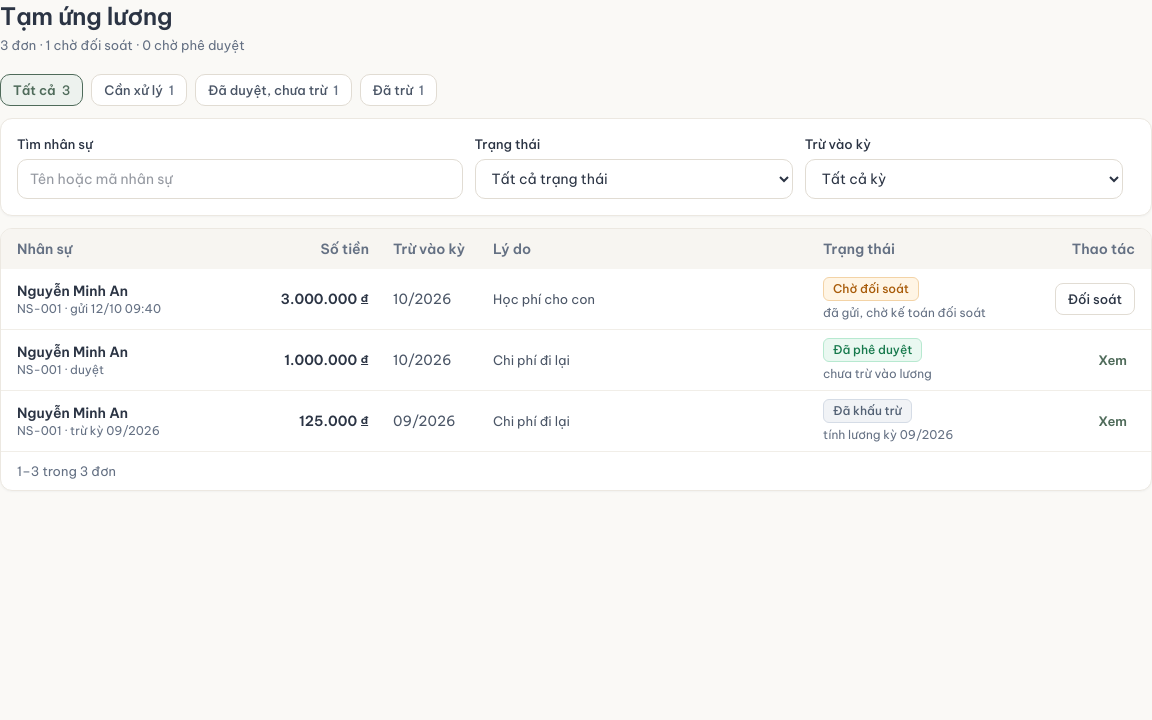
Advances list redesign › shows the request facts, other requests of the same month and the real rules in the decision dialog
Step 1. Click the button "Đối soát" → (1095, 299), box [1055,283,1135,315]
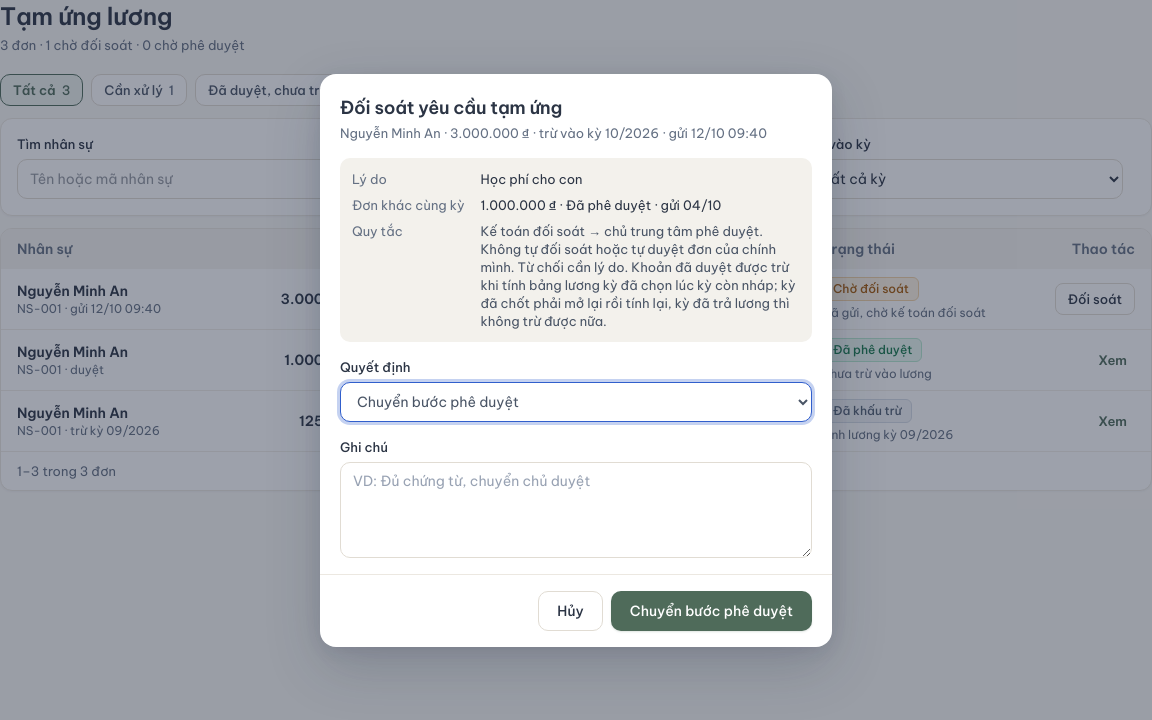
Expected: the number of list items is 1, [480,196,721,212]
Expected: the list item reads "1.000.000 ₫ · Đã phê duyệt · gửi 04/10", [480,196,721,212]
Expected: the dialog "Đối soát yêu cầu tạm ứng" shows "Không tự đối soát hoặc tự duyệt đơn của chính mình. Từ chối cần lý do.", [480,222,796,328]
